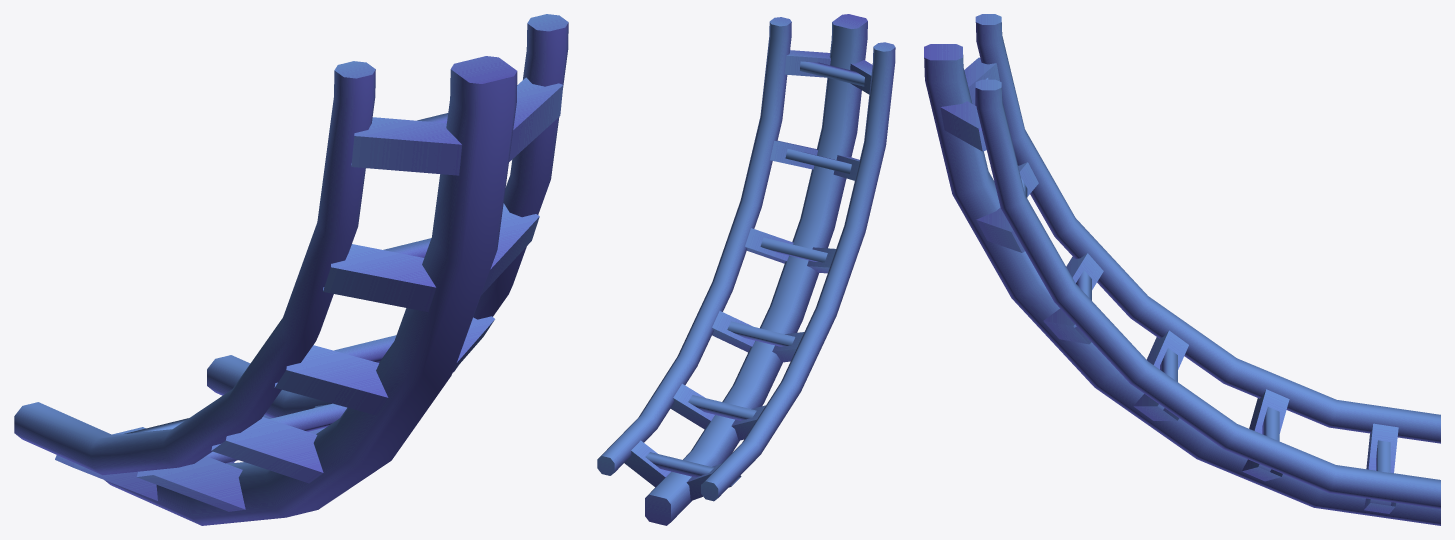
File: coaster-steel-straight-bend.glb
3 renders of one model, left to right at view 1: azimuth 30°, elevation 25°; view 2: azimuth 150°, elevation 25°; view 3: azimuth 270°, elevation 25°, orthographic. The views are drawn at different scales.
Parts seen in each view (by area): view 1: coaster-steel-straight-bend; view 2: coaster-steel-straight-bend; view 3: coaster-steel-straight-bend.
Boxes of the visible parts, x1=… form: coaster-steel-straight-bend: x1=14, y1=14, x2=568, y2=525; coaster-steel-straight-bend: x1=597, y1=14, x2=895, y2=525; coaster-steel-straight-bend: x1=924, y1=14, x2=1440, y2=525.
Size of the model in its own units: 0.7001 by 2 by 2.
Materials: 1 (1 with a texture image).
